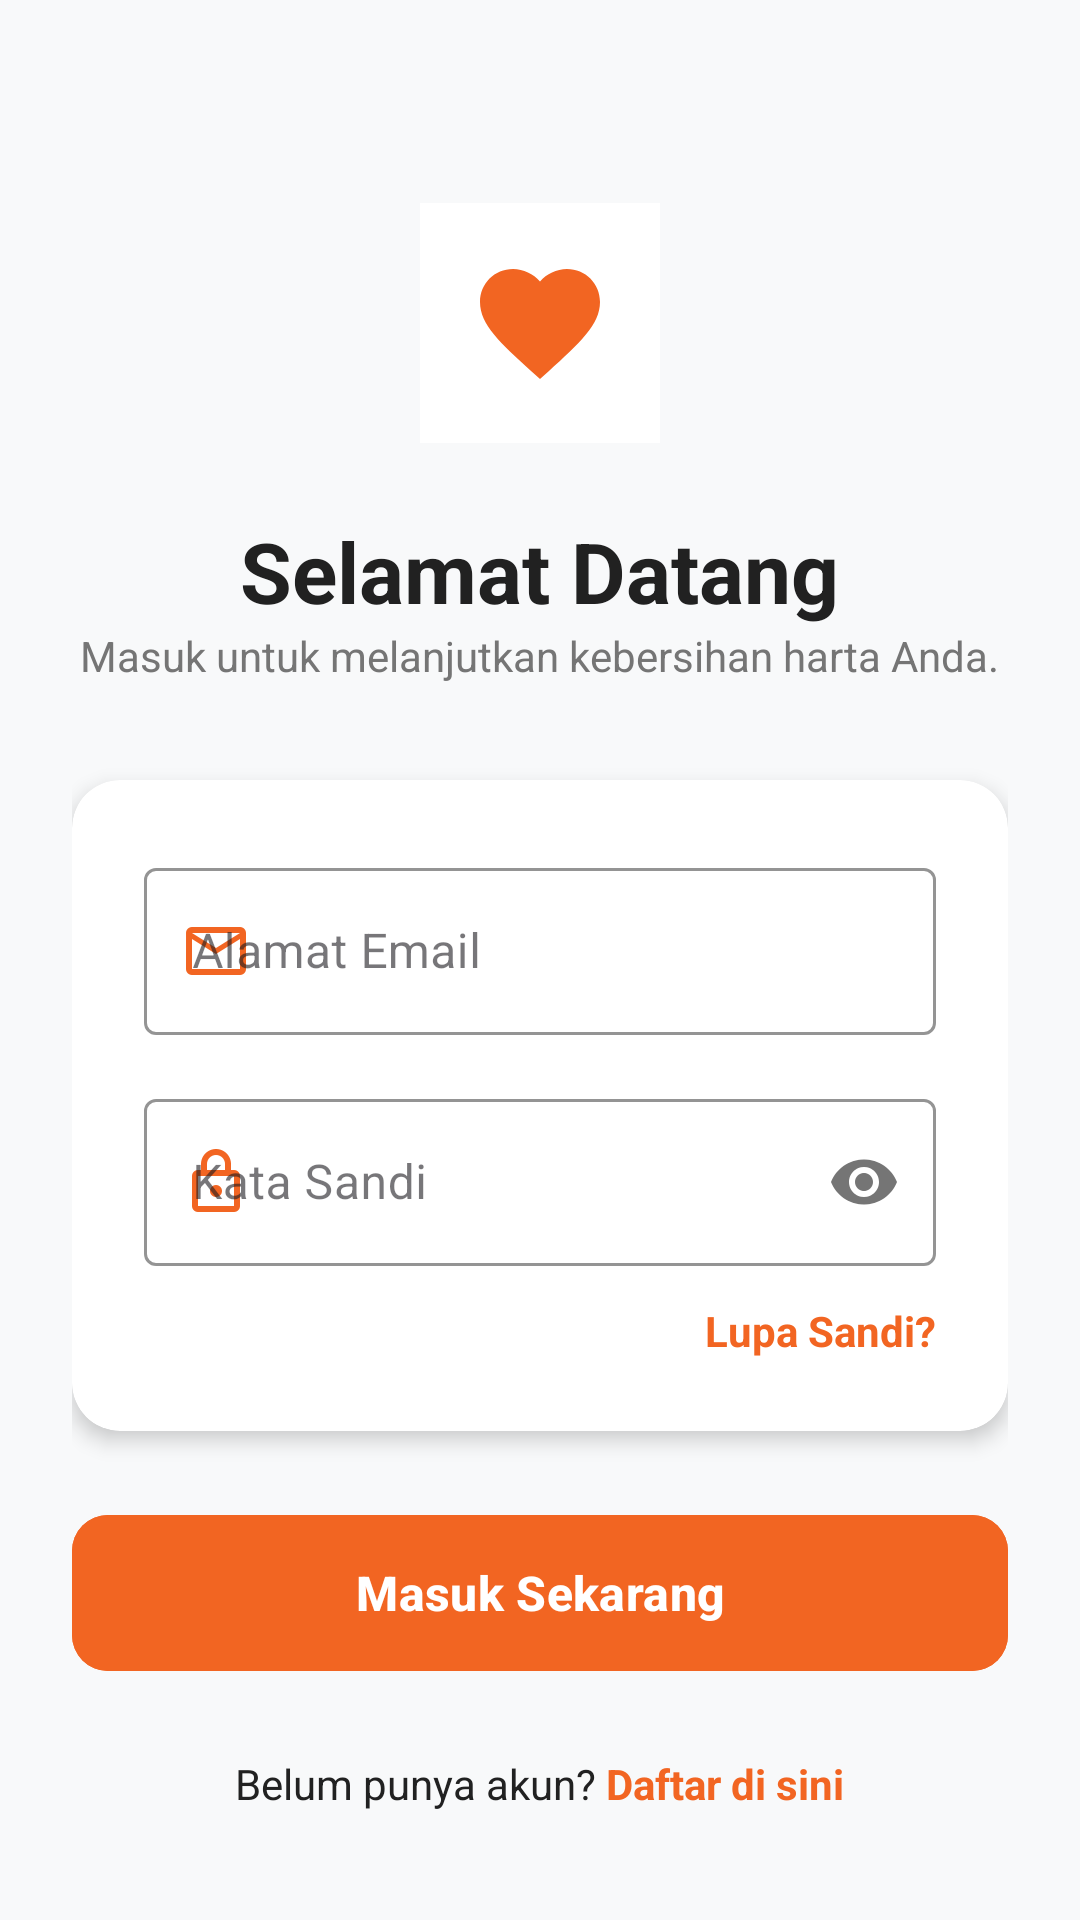

Named icons in this screenshot (1080w x 1920h) and their bounding boxes, (x1, y1, x2, y2):
donasi: (480, 269, 600, 379)
